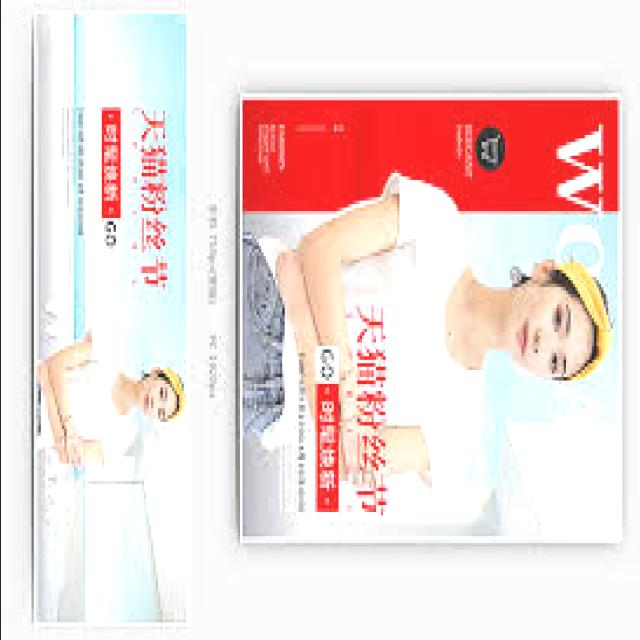paper: (9, 23, 630, 640)
